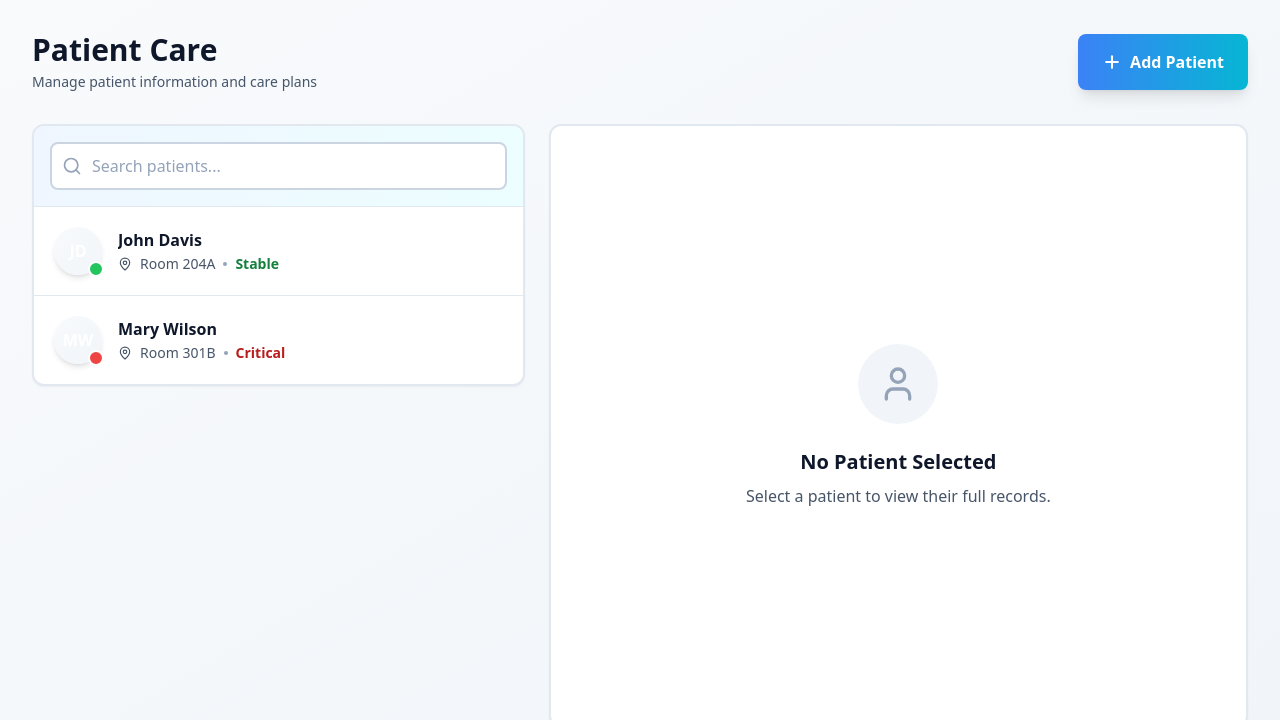
it: PatientCare UI Tests › updates the detail view when a patient is selected
Click on Mary
Click the heading "Mary Wilson". click: (167, 329)
box: x1=118 y1=318 x2=217 y2=340
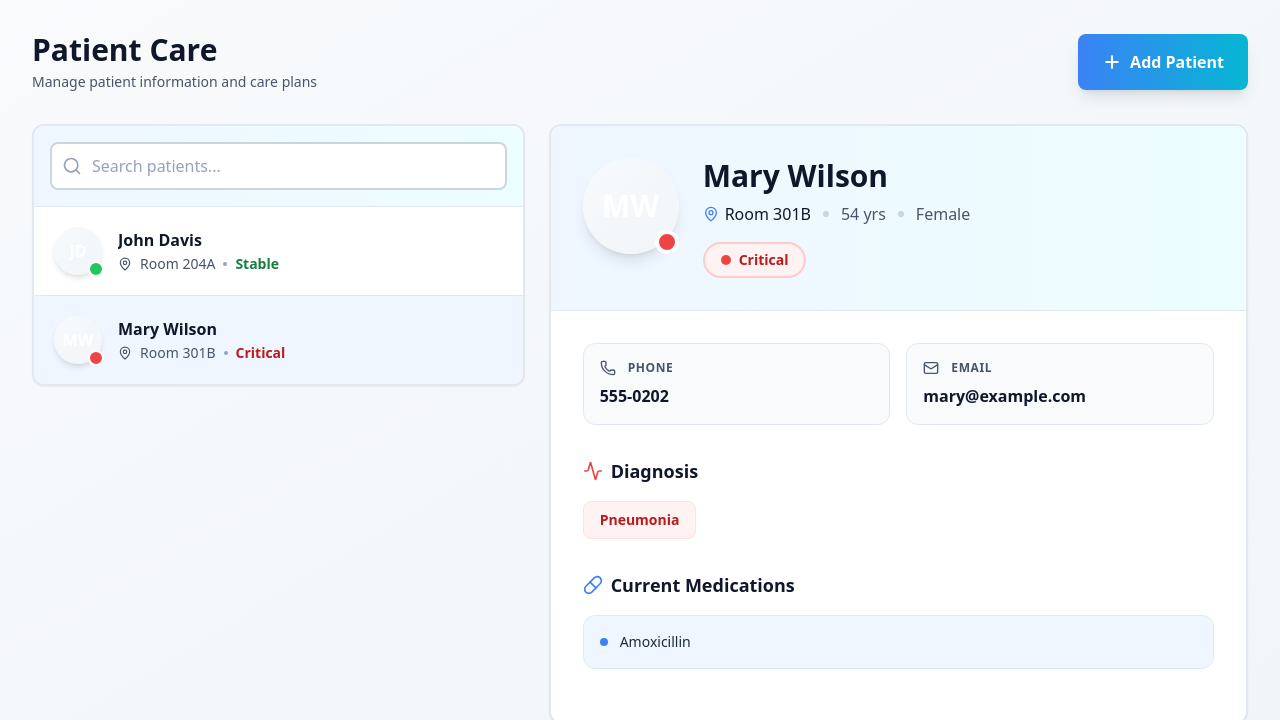
Check: the text "mary@example.com" is shown, box x1=923 y1=385 x2=1086 y2=407
